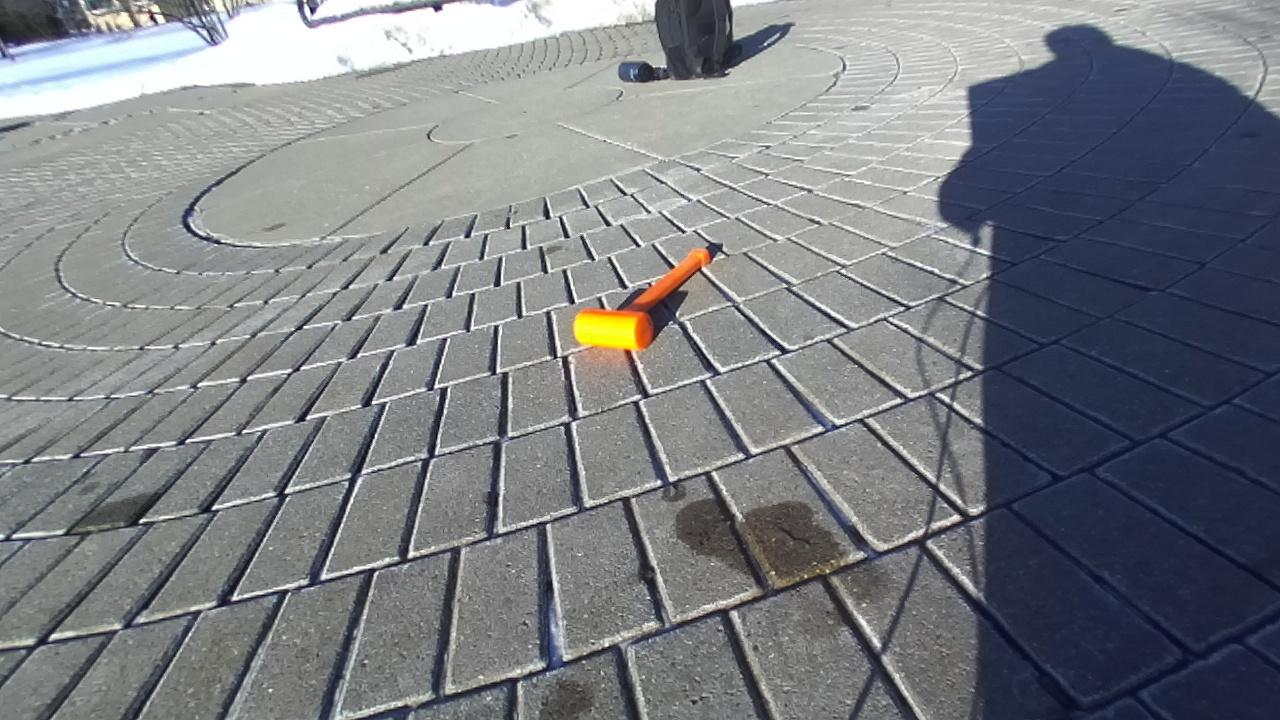bottle: (618, 62, 655, 82)
mallet: (574, 248, 710, 349)
